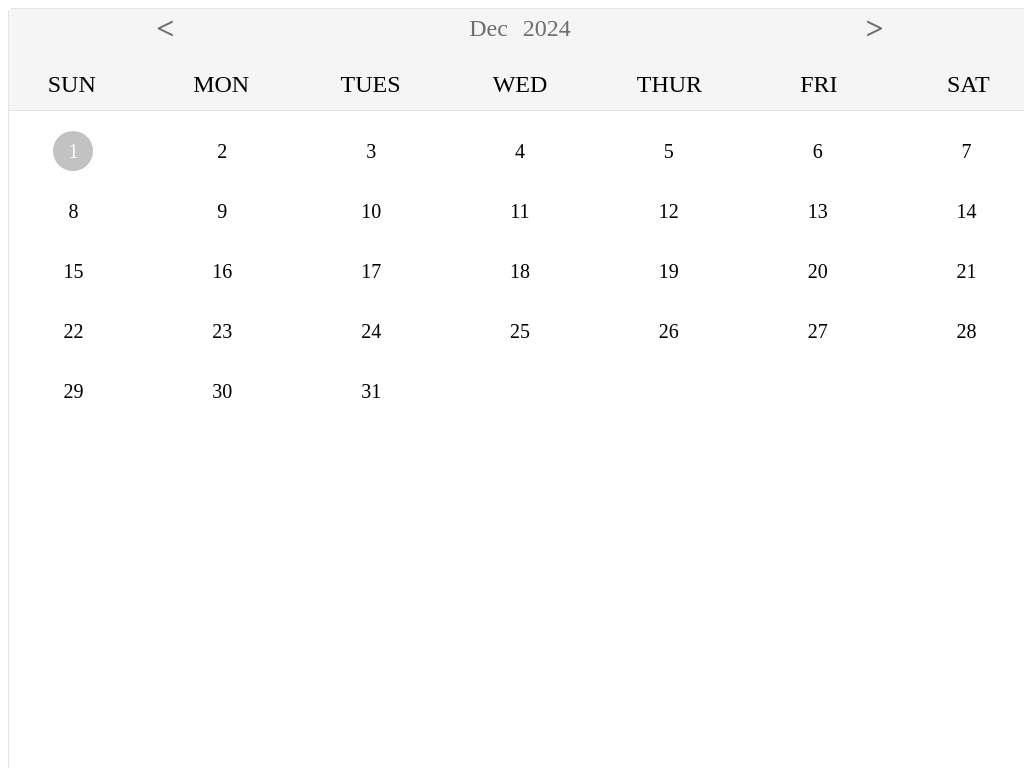
it: Calendar Component › goes back a month when clicking on left arrow
The image size is (1024, 768).
Expected: the text "Dec" is shown, [469,15,508,41]
Click on the right arrow to change the month
Click the text "<". click: x=165, y=28
box: [156,10,174,47]
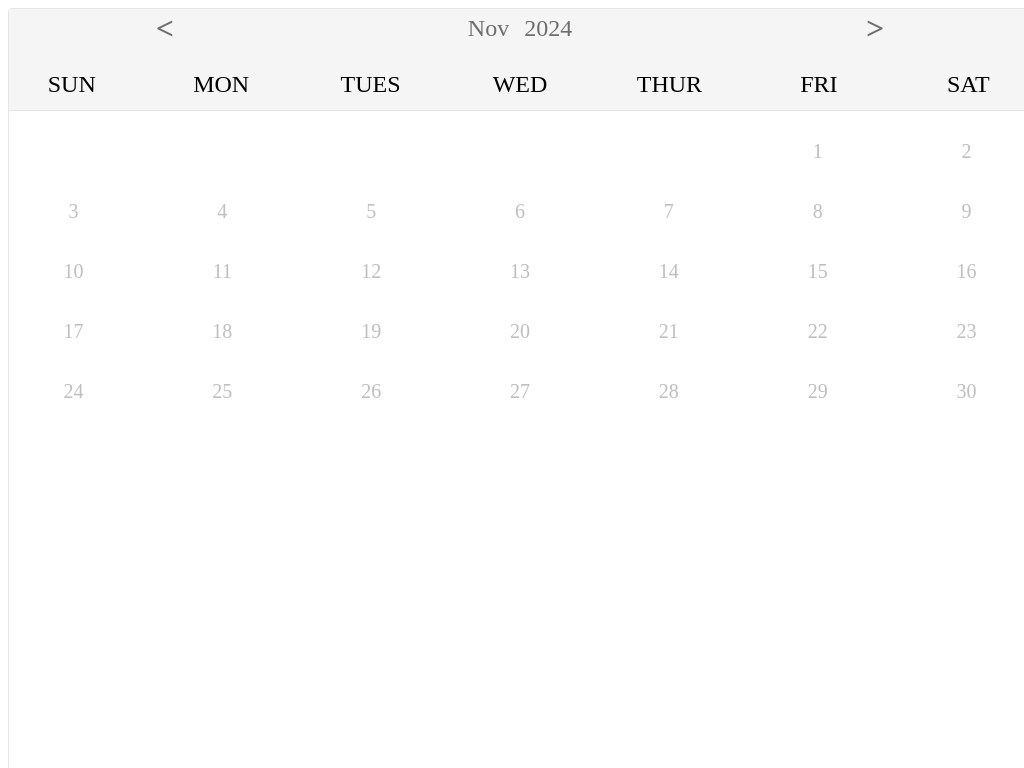
Result: the text "Nov" is shown at [468,15,509,41]
